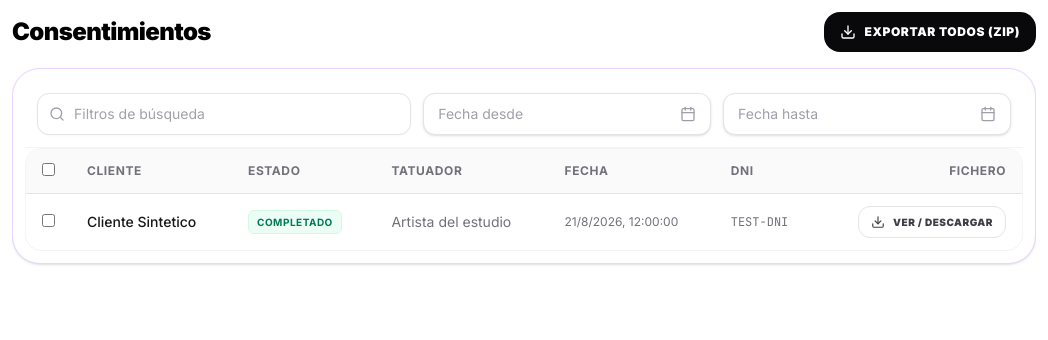
Scenario: ConsentsManager truthful ZIP export › keeps one synthetic minor final identity across list, PDF download and ZIP
This screenshot has width=1048, height=340.
Expected: the text "Cliente Sintetico" is shown, [71,194,232,250]
Step 1. Click the button "Ver / descargar" → point(932, 222), box [858,206,1006,238]
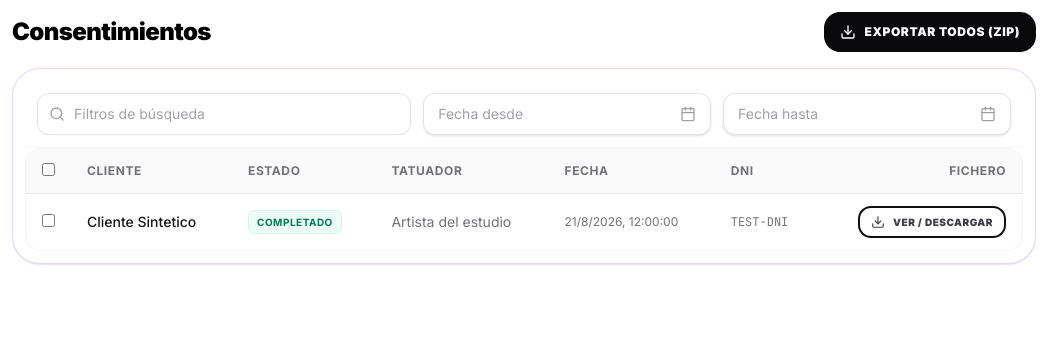
Step 2. Click the button "Exportar todos (ZIP)" → point(930, 32), box [824,12,1036,52]
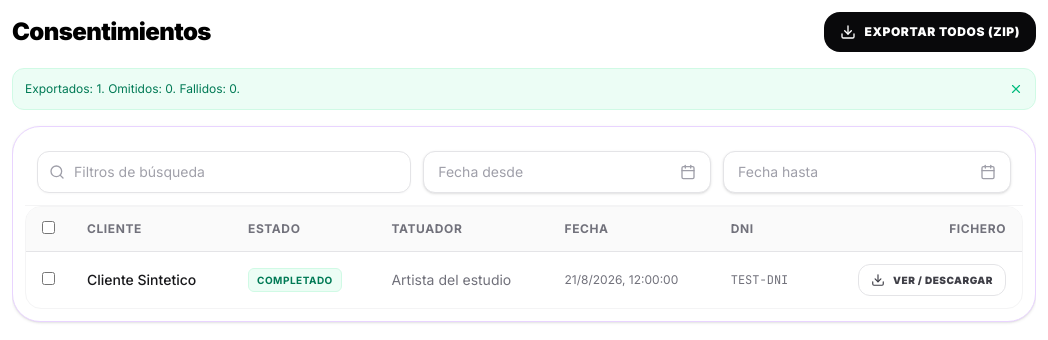
Now the text "Exportados: 1. Omitidos: 0. Fallidos: 0." is shown, box [25,81,240,97]
